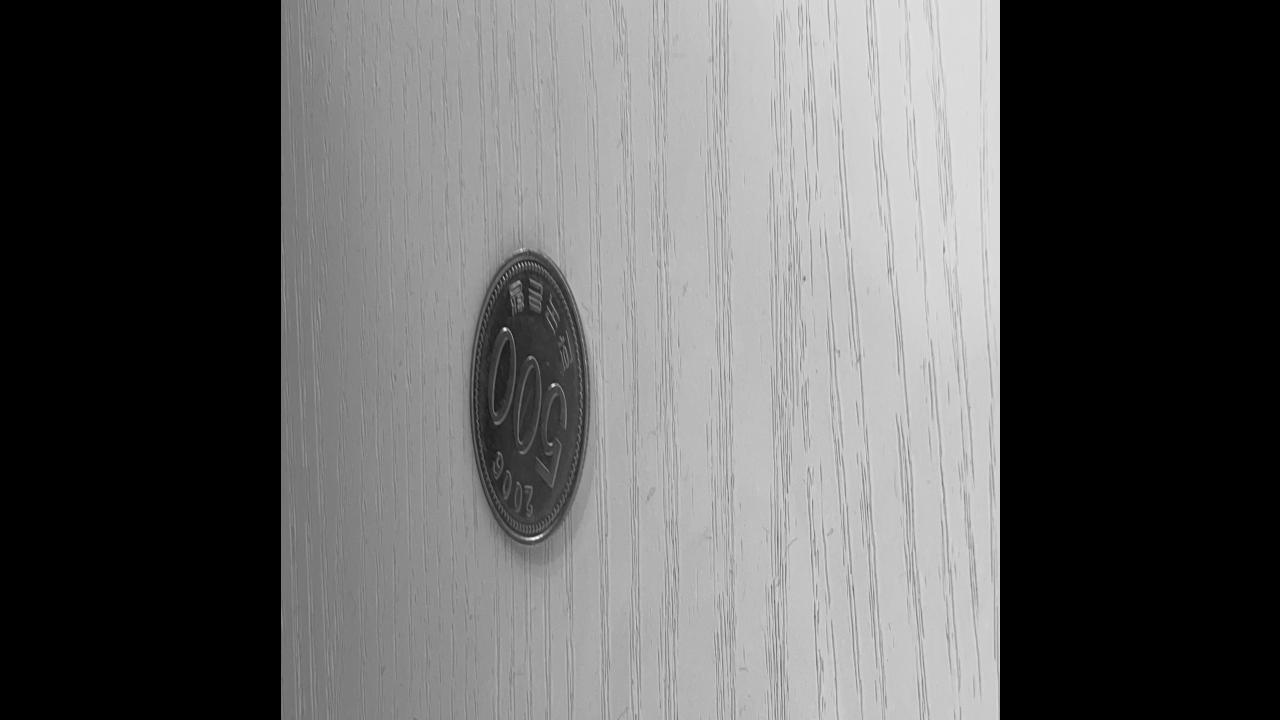coin: (466, 243, 592, 550)
